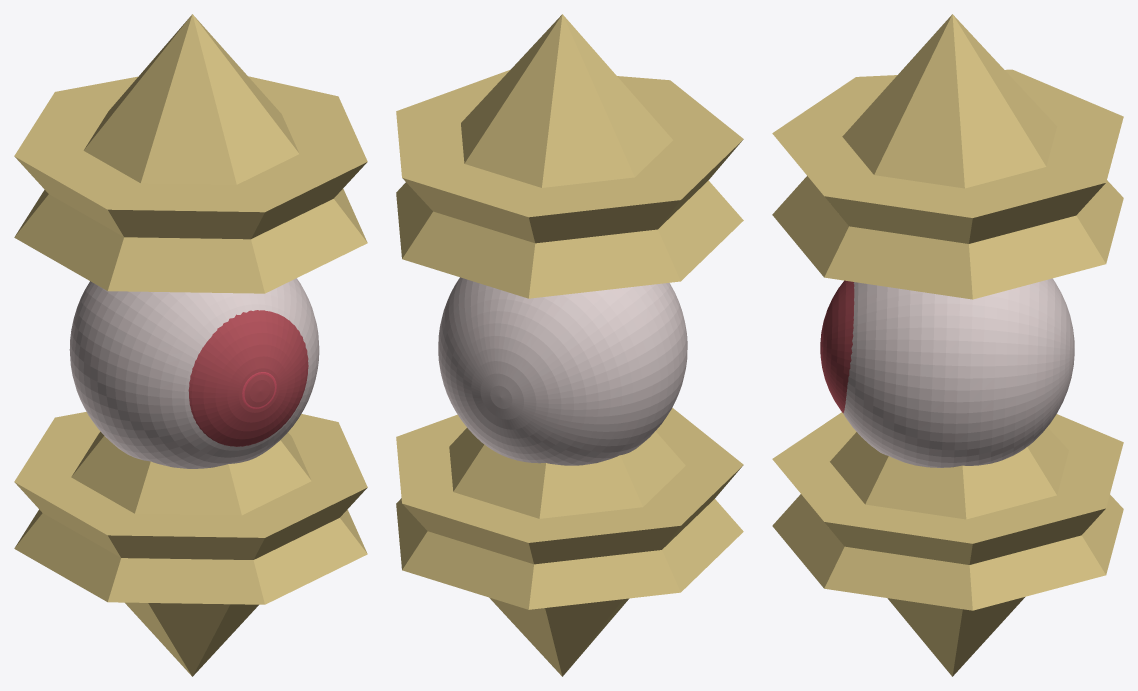
Rendered from eye-flyer.glb.
The picture shows the model from 3 angles, left to right: view 1: azimuth 30°, elevation 25°; view 2: azimuth 150°, elevation 25°; view 3: azimuth 270°, elevation 25°; orthographic projection.
Parts seen in each view (by area): view 1: Mesh_Mesh_head_geo.001_lambert2SG.001; view 2: Mesh_Mesh_head_geo.001_lambert2SG.001; view 3: Mesh_Mesh_head_geo.001_lambert2SG.001.
Boxes of the visible parts, box(x1,y1,x2,y2) form: Mesh_Mesh_head_geo.001_lambert2SG.001: box(14, 14, 367, 676); Mesh_Mesh_head_geo.001_lambert2SG.001: box(396, 14, 743, 676); Mesh_Mesh_head_geo.001_lambert2SG.001: box(772, 14, 1123, 676).
Size of the model in its own units: 0.0274 by 0.057 by 0.0274.
